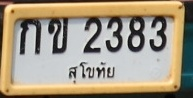txt01: (18, 18, 42, 56)
txt02: (46, 18, 71, 56)
